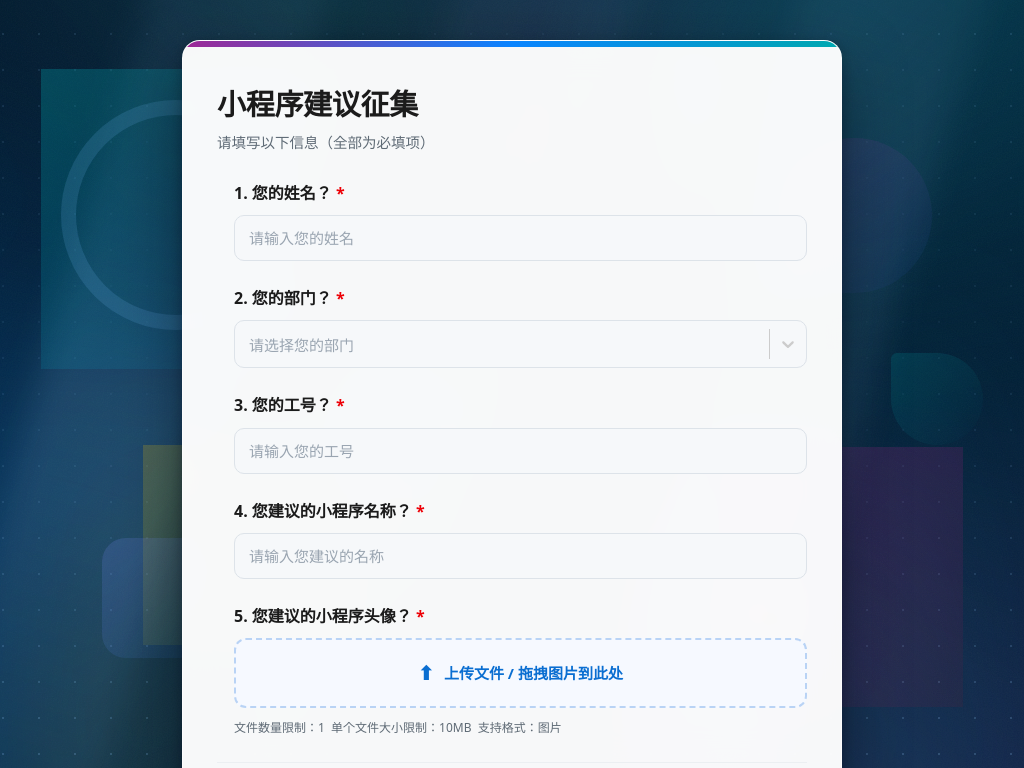
admin shortcut appears only for admin names
Expected: the button "查看提交" is not shown
Type "张三" into the field with placeholder "请输入您的姓名" at (520, 238), box [234, 215, 807, 261]
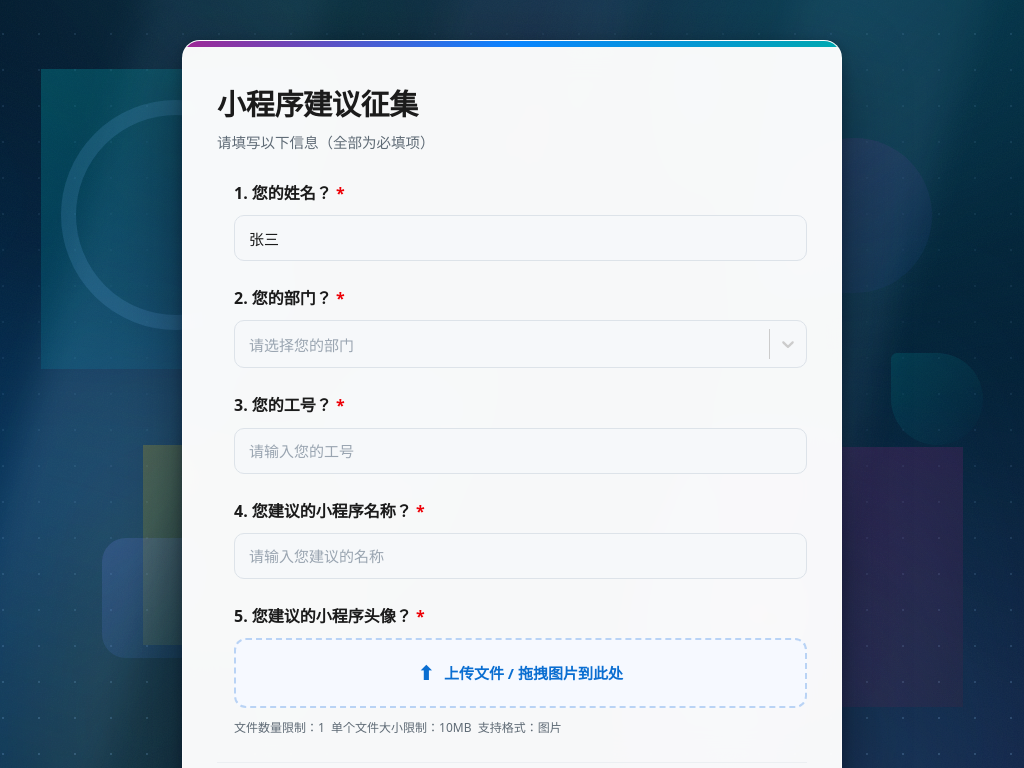
Expected: the button "查看提交" is not shown
Replace the text in the field with placeholder "请输入您的姓名" with "  Olarinde Joseph  " at (520, 238), box [234, 215, 807, 261]
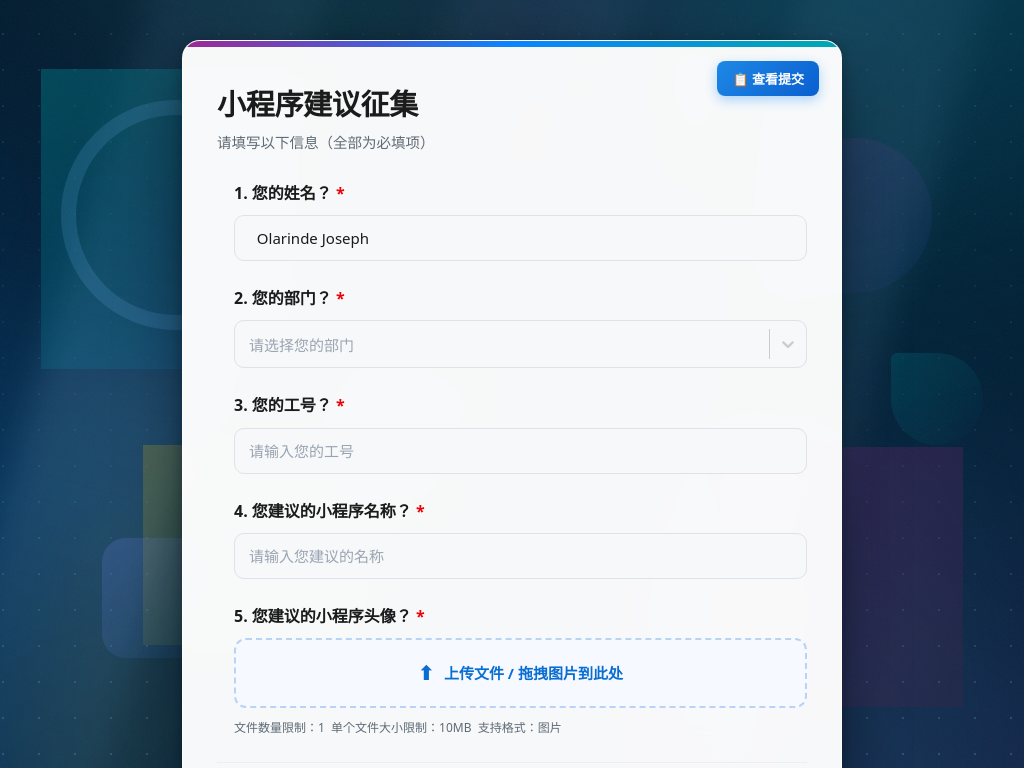
Expected: the button "📋 查看提交" is shown, [717, 61, 819, 96]
